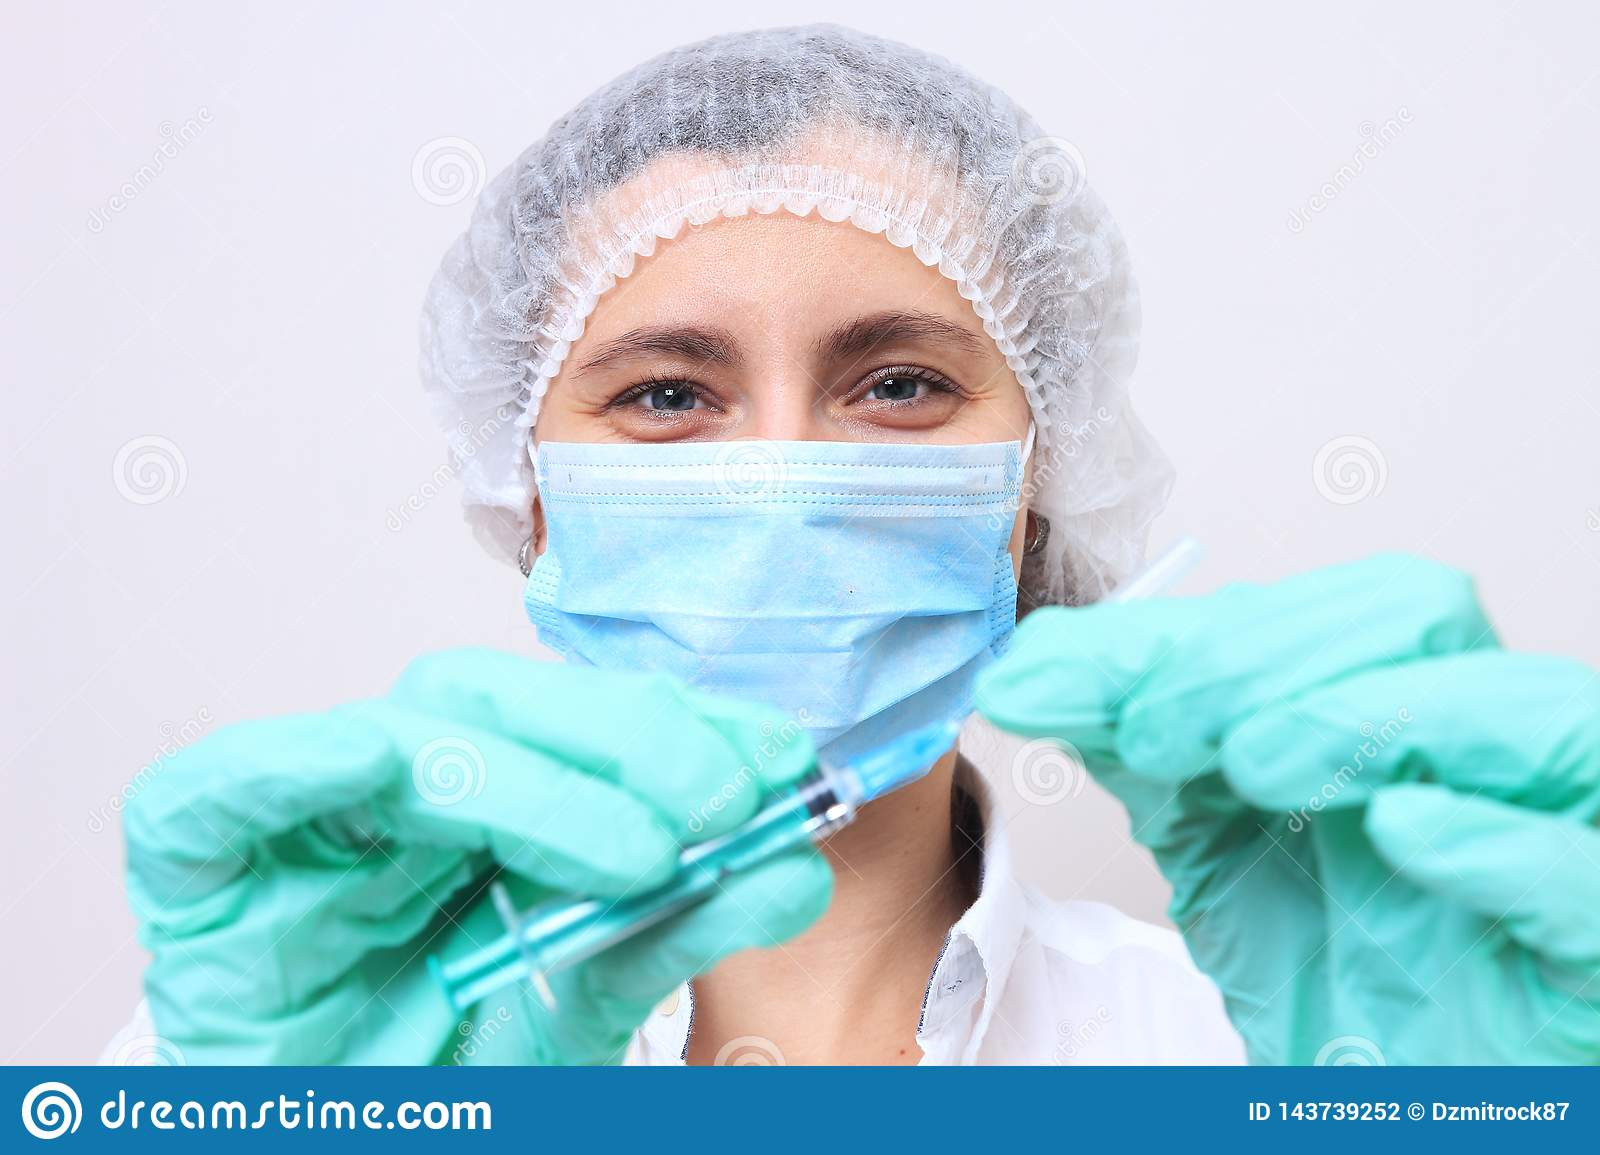mask: (520, 433, 1030, 804)
